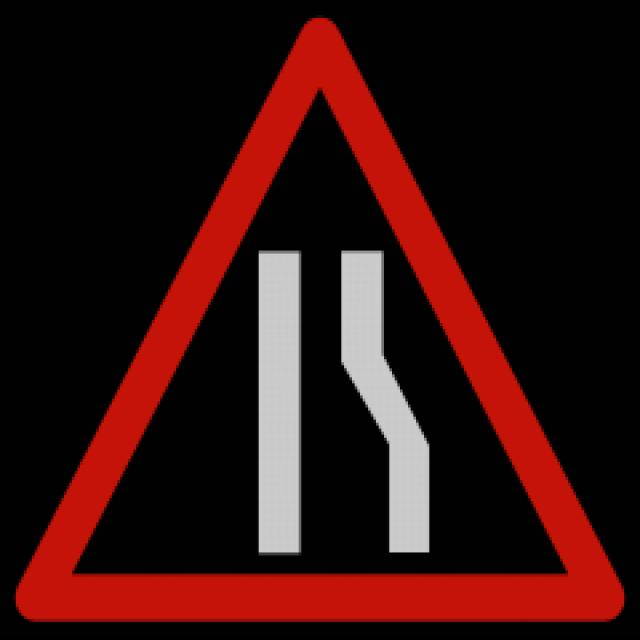danger: (16, 19, 633, 621)
